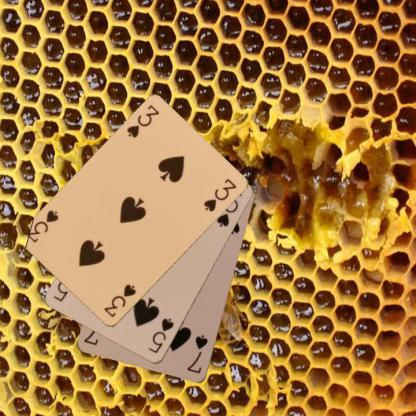3s: (101, 282, 138, 320), (124, 102, 160, 140)
5s: (146, 315, 176, 356)
7s: (184, 332, 209, 375)
